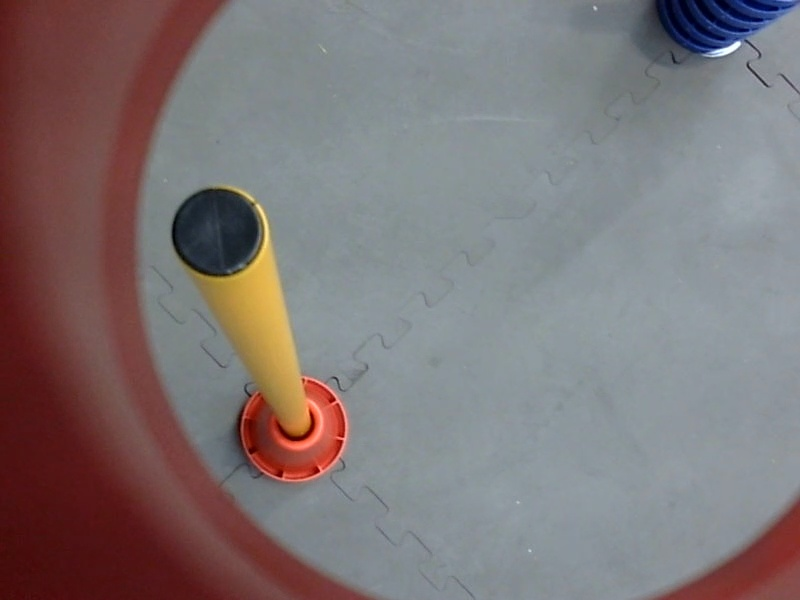tip: (166, 181, 274, 284)
